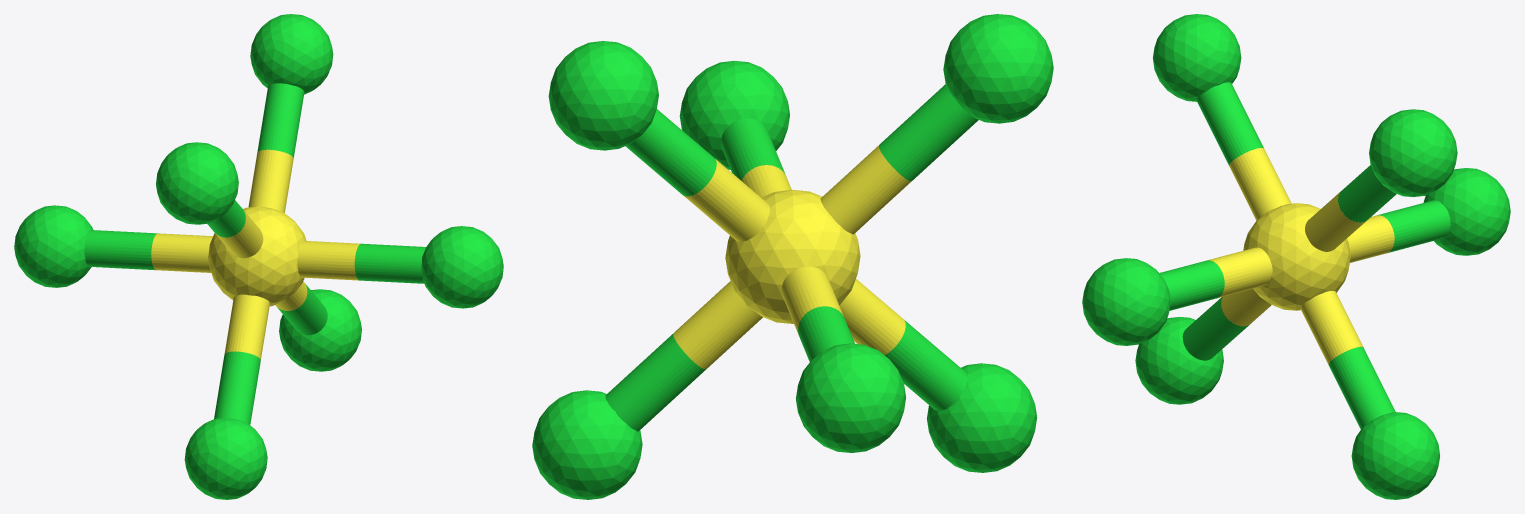
3 renders of one model, left to right at view 1: azimuth 30°, elevation 25°; view 2: azimuth 150°, elevation 25°; view 3: azimuth 270°, elevation 25°, orthographic. The views are drawn at different scales.
Parts seen in each view (by area): view 1: Shape_IndexedFaceSet, Shape_IndexedFaceSet.002, Shape_IndexedFaceSet.006, Shape_IndexedFaceSet.001, Shape_IndexedFaceSet.003, Shape_IndexedFaceSet.005, Shape_IndexedFaceSet.004, Shape_IndexedFaceSet.018, Shape_IndexedFaceSet.024, Shape_IndexedFaceSet.012, Shape_IndexedFaceSet.009, Shape_IndexedFaceSet.023 (+6 smaller); view 2: Shape_IndexedFaceSet, Shape_IndexedFaceSet.003, Shape_IndexedFaceSet.005, Shape_IndexedFaceSet.002, Shape_IndexedFaceSet.004, Shape_IndexedFaceSet.001, Shape_IndexedFaceSet.006, Shape_IndexedFaceSet.015, Shape_IndexedFaceSet.021, Shape_IndexedFaceSet.018, Shape_IndexedFaceSet.020, Shape_IndexedFaceSet.014 (+7 smaller); view 3: Shape_IndexedFaceSet, Shape_IndexedFaceSet.006, Shape_IndexedFaceSet.003, Shape_IndexedFaceSet.004, Shape_IndexedFaceSet.002, Shape_IndexedFaceSet.005, Shape_IndexedFaceSet.001, Shape_IndexedFaceSet.015, Shape_IndexedFaceSet.021, Shape_IndexedFaceSet.014, Shape_IndexedFaceSet.020, Shape_IndexedFaceSet.012 (+7 smaller).
Boxes of the visible parts, x1,y1,x2,y2 form: Shape_IndexedFaceSet: (208,206,306,306); Shape_IndexedFaceSet.002: (156,142,238,224); Shape_IndexedFaceSet.006: (421,226,503,308); Shape_IndexedFaceSet.001: (184,417,267,499); Shape_IndexedFaceSet.003: (250,14,333,94); Shape_IndexedFaceSet.005: (14,205,93,287); Shape_IndexedFaceSet.004: (279,289,361,371); Shape_IndexedFaceSet.018: (257,83,304,157); Shape_IndexedFaceSet.024: (214,351,260,424); Shape_IndexedFaceSet.012: (84,230,157,270); Shape_IndexedFaceSet.009: (354,243,426,283); Shape_IndexedFaceSet.023: (224,294,269,359); Shape_IndexedFaceSet: (725,190,860,323); Shape_IndexedFaceSet.003: (548,41,658,150); Shape_IndexedFaceSet.005: (796,343,906,452); Shape_IndexedFaceSet.002: (943,14,1053,123); Shape_IndexedFaceSet.004: (532,390,642,499); Shape_IndexedFaceSet.001: (927,363,1037,472); Shape_IndexedFaceSet.006: (679,60,789,169); Shape_IndexedFaceSet.015: (605,334,705,431); Shape_IndexedFaceSet.021: (879,84,978,181); Shape_IndexedFaceSet.018: (625,109,716,196); Shape_IndexedFaceSet.020: (820,145,911,234); Shape_IndexedFaceSet.014: (673,281,762,369); Shape_IndexedFaceSet: (1243,203,1350,310); Shape_IndexedFaceSet.006: (1082,258,1170,345); Shape_IndexedFaceSet.003: (1369,109,1457,197); Shape_IndexedFaceSet.004: (1351,412,1439,499); Shape_IndexedFaceSet.002: (1153,14,1241,101); Shape_IndexedFaceSet.005: (1423,168,1510,255); Shape_IndexedFaceSet.001: (1135,317,1223,404); Shape_IndexedFaceSet.015: (1328,346,1395,429); Shape_IndexedFaceSet.021: (1196,82,1263,165); Shape_IndexedFaceSet.014: (1300,291,1363,364); Shape_IndexedFaceSet.020: (1229,147,1291,220); Shape_IndexedFaceSet.012: (1377,200,1450,252).
Size of the model in its own units: 0.4049 by 0.4314 by 0.4422.
